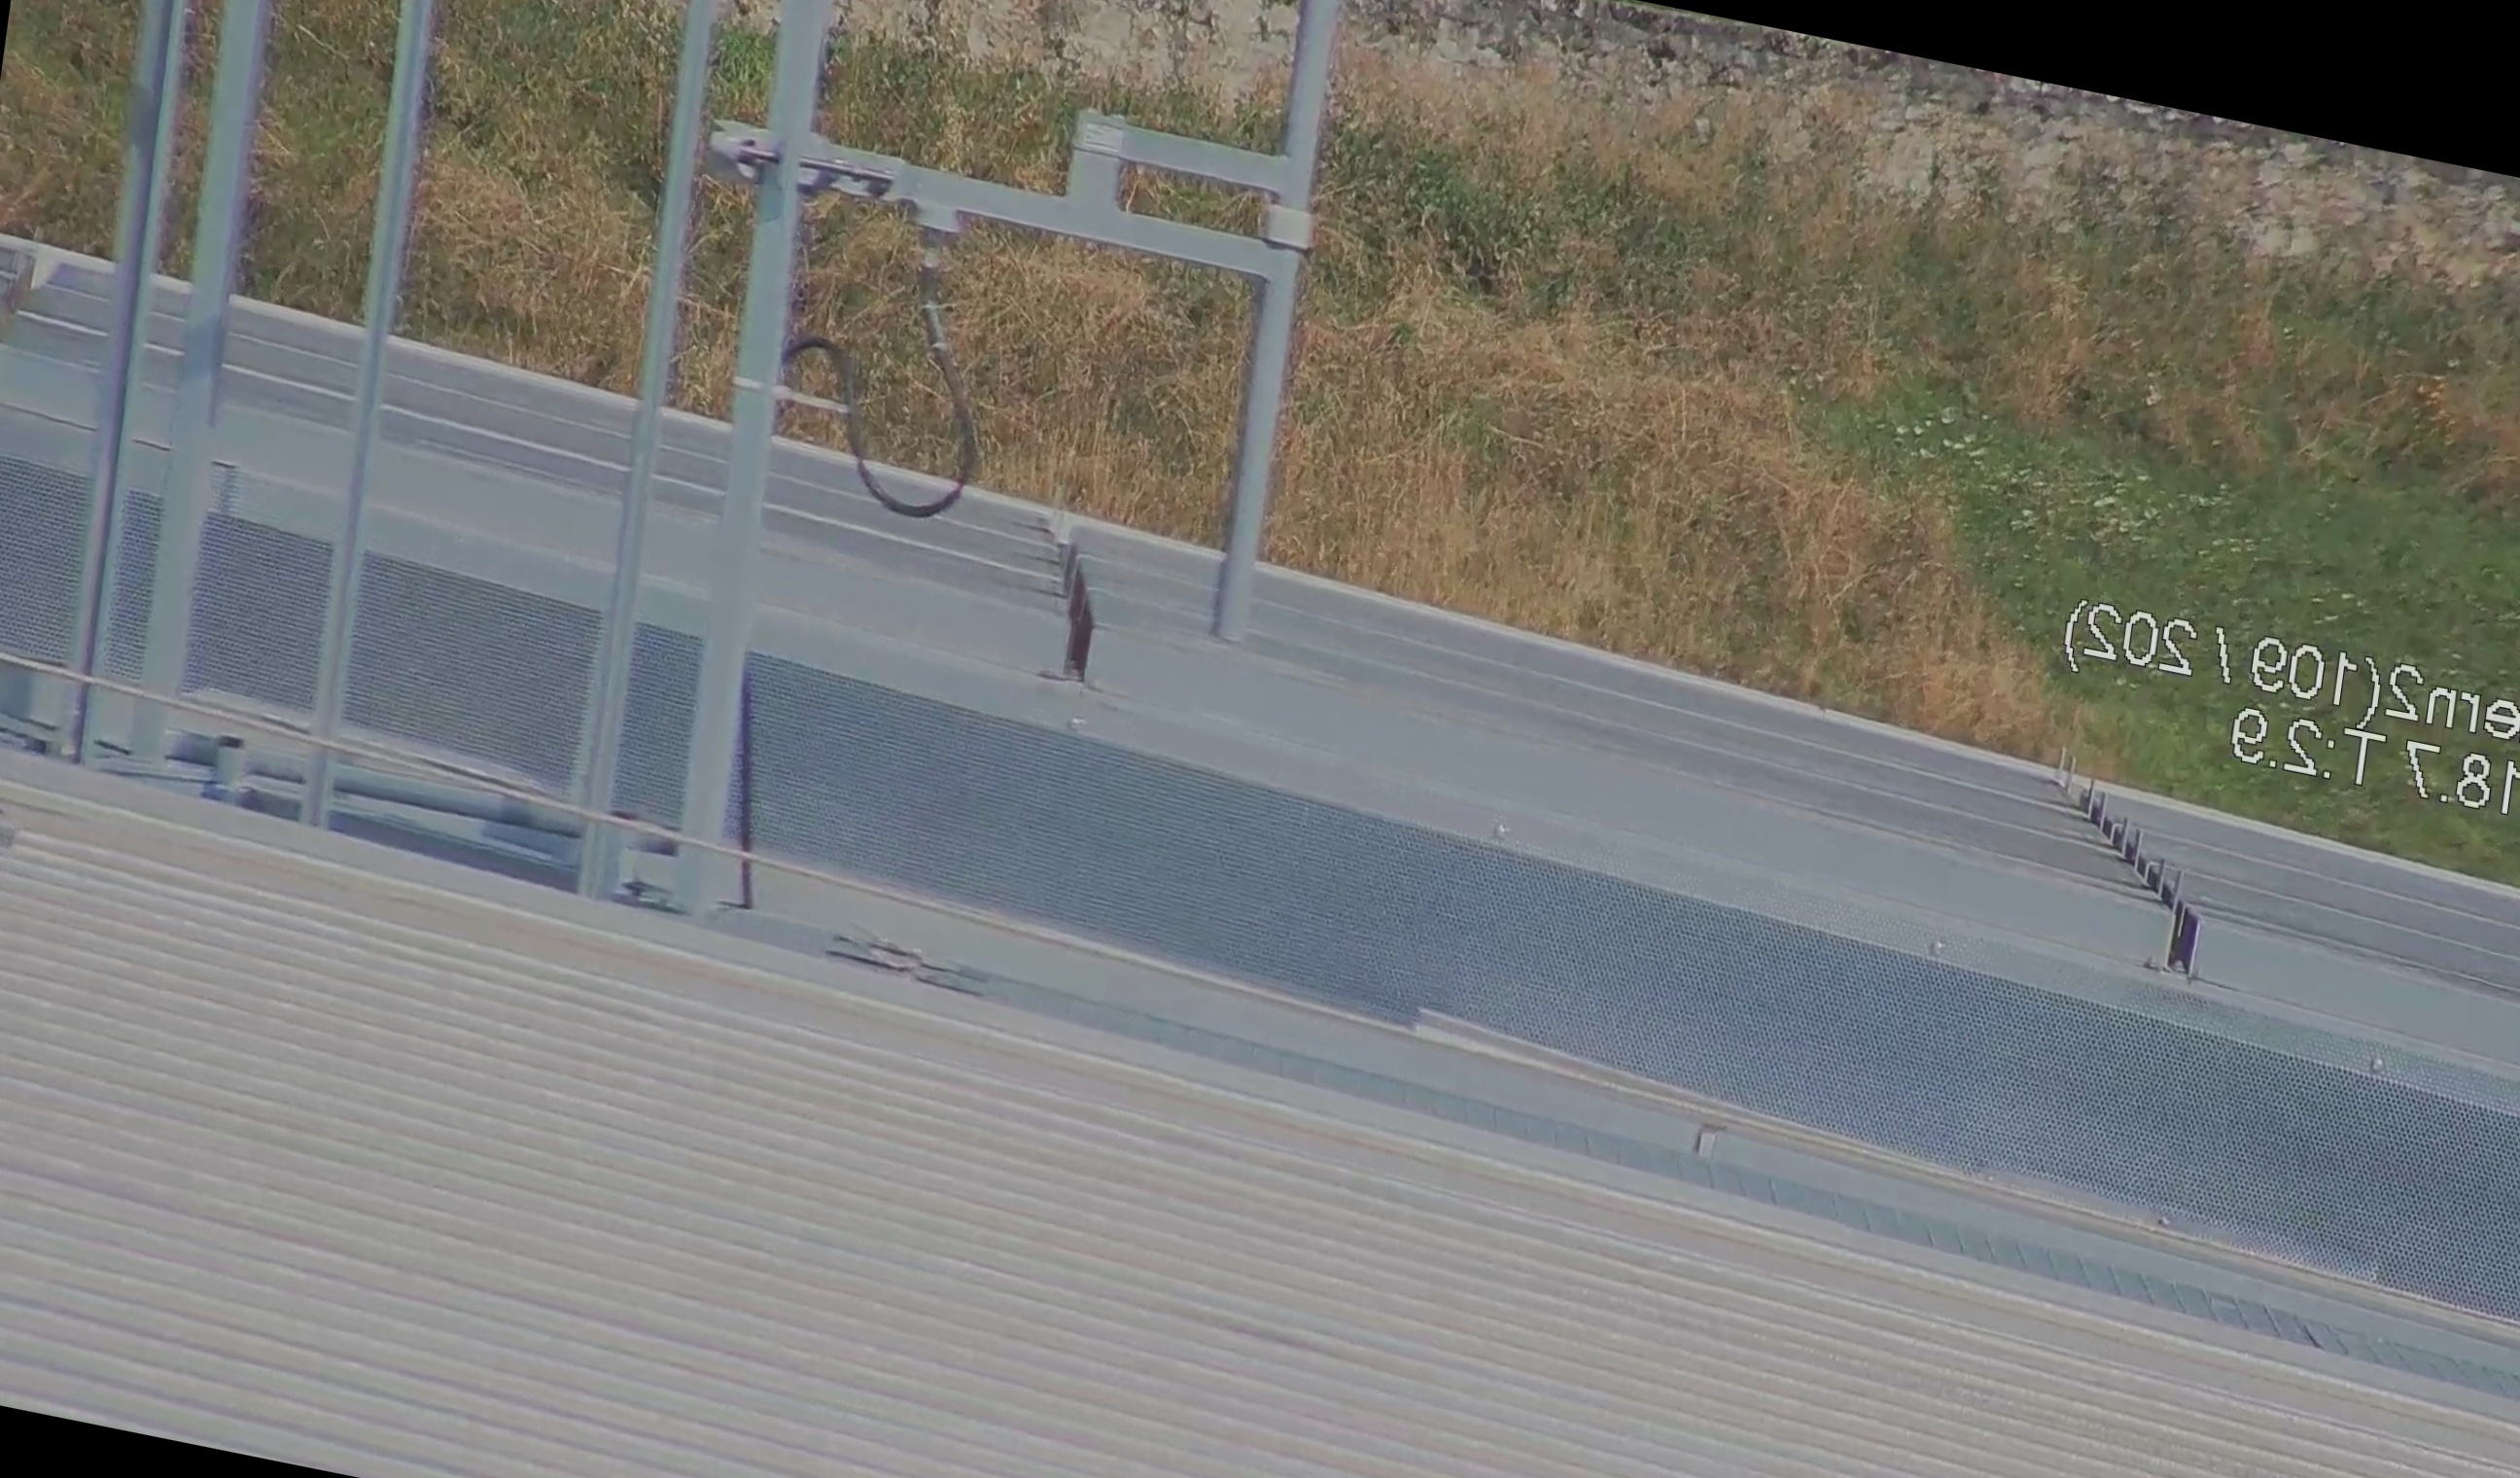Other: (1015, 505, 1120, 695)
